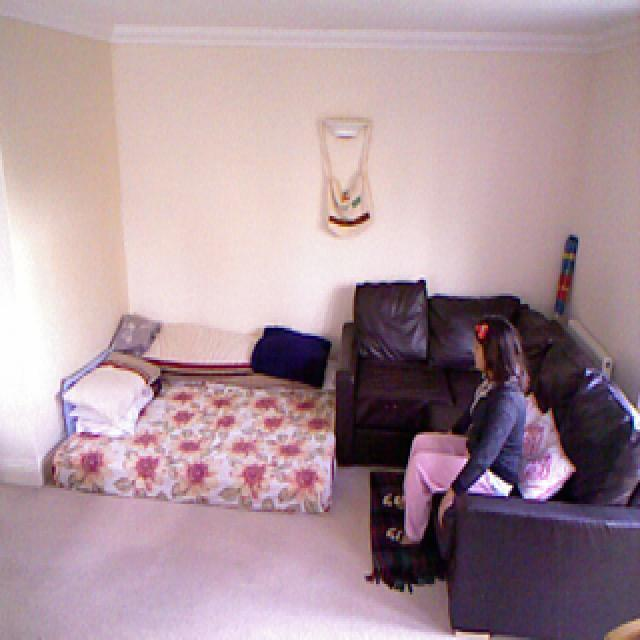sitting: (381, 320, 543, 562)
